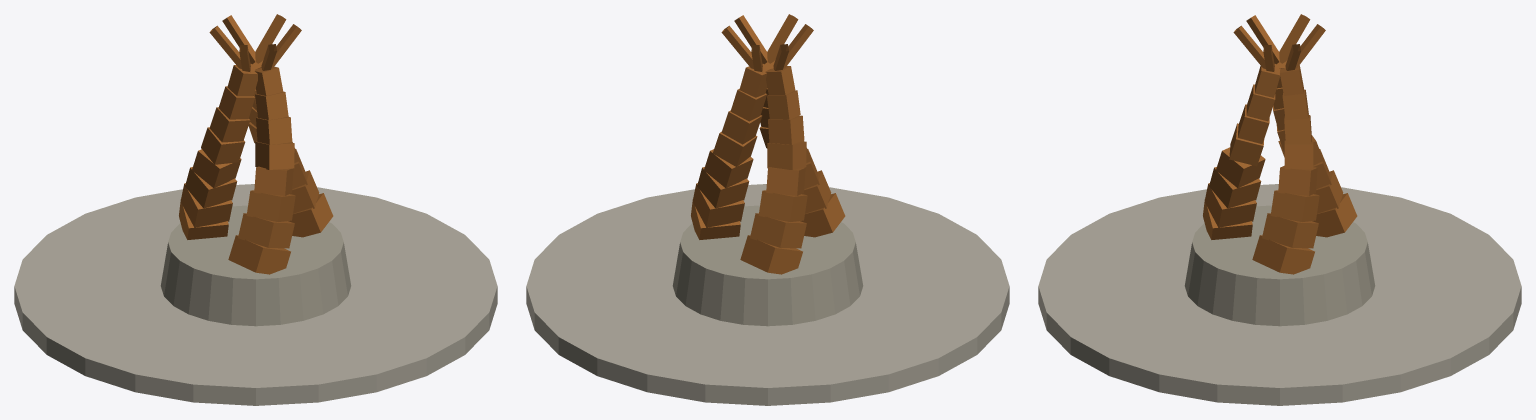
The model's file is tugu-selais-lod0.glb.
3 renders of one model, left to right at view 1: azimuth 30°, elevation 25°; view 2: azimuth 150°, elevation 25°; view 3: azimuth 270°, elevation 25°, orthographic.
Visible parts, largest first — view 1: tugu-selais_LOD0; view 2: tugu-selais_LOD0; view 3: tugu-selais_LOD0.
Boxes of the visible parts, left/top/right/bottom form: tugu-selais_LOD0: left=14, top=14, right=497, bottom=405; tugu-selais_LOD0: left=526, top=14, right=1009, bottom=405; tugu-selais_LOD0: left=1038, top=14, right=1521, bottom=405.
Bounding box in the file's own units: 22 × 13.82 × 22.
